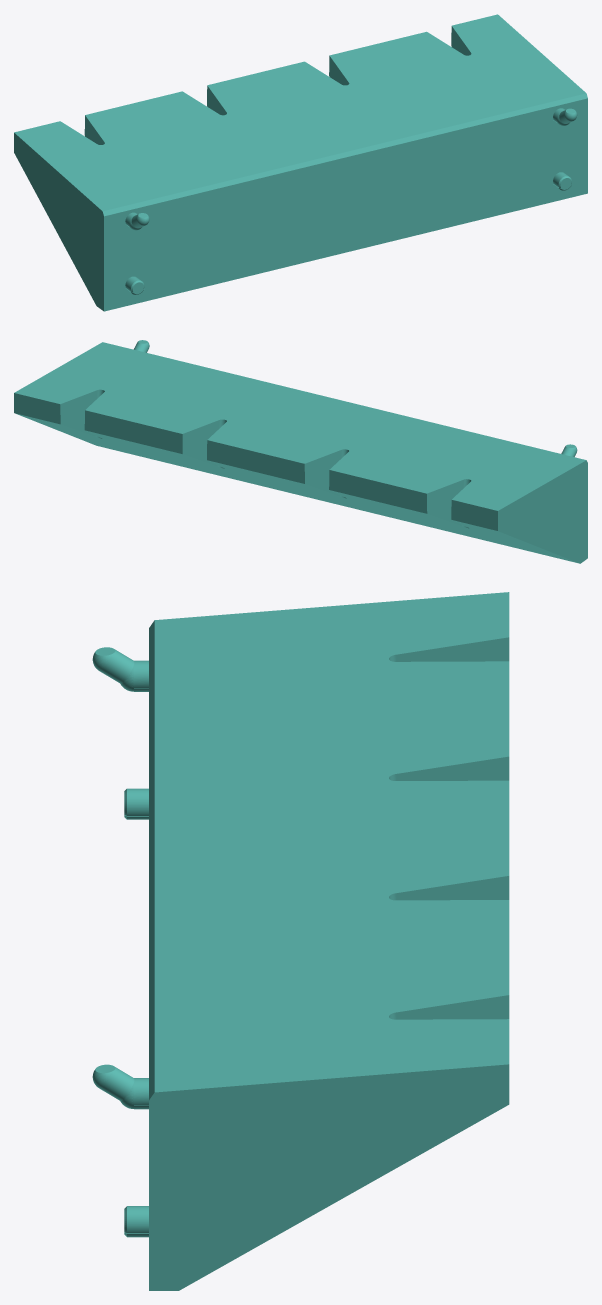
Rendered from part-bd01-slope-e__v4__installed.glb.
3 renders of one model, top to bottom at view 1: azimuth 30°, elevation 25°; view 2: azimuth 150°, elevation 25°; view 3: azimuth 270°, elevation 25°, orthographic. The views are drawn at different scales.
Visible parts, largest first — view 1: Actual holder mesh; view 2: Actual holder mesh; view 3: Actual holder mesh.
Boxes of the visible parts, <box> form: Actual holder mesh: <box>14,14,587,311</box>; Actual holder mesh: <box>14,340,587,563</box>; Actual holder mesh: <box>92,592,509,1290</box>.
Size of the model in its own units: 0.2012 by 0.045 by 0.075.
